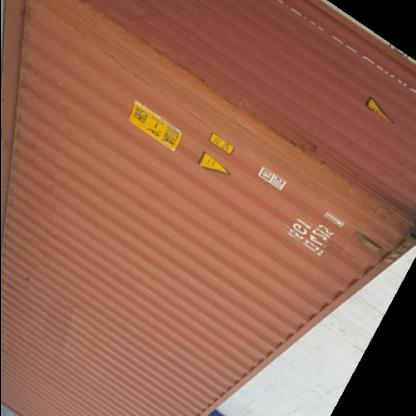Damage: (70, 7, 226, 80), (190, 83, 336, 159), (299, 164, 409, 230)
